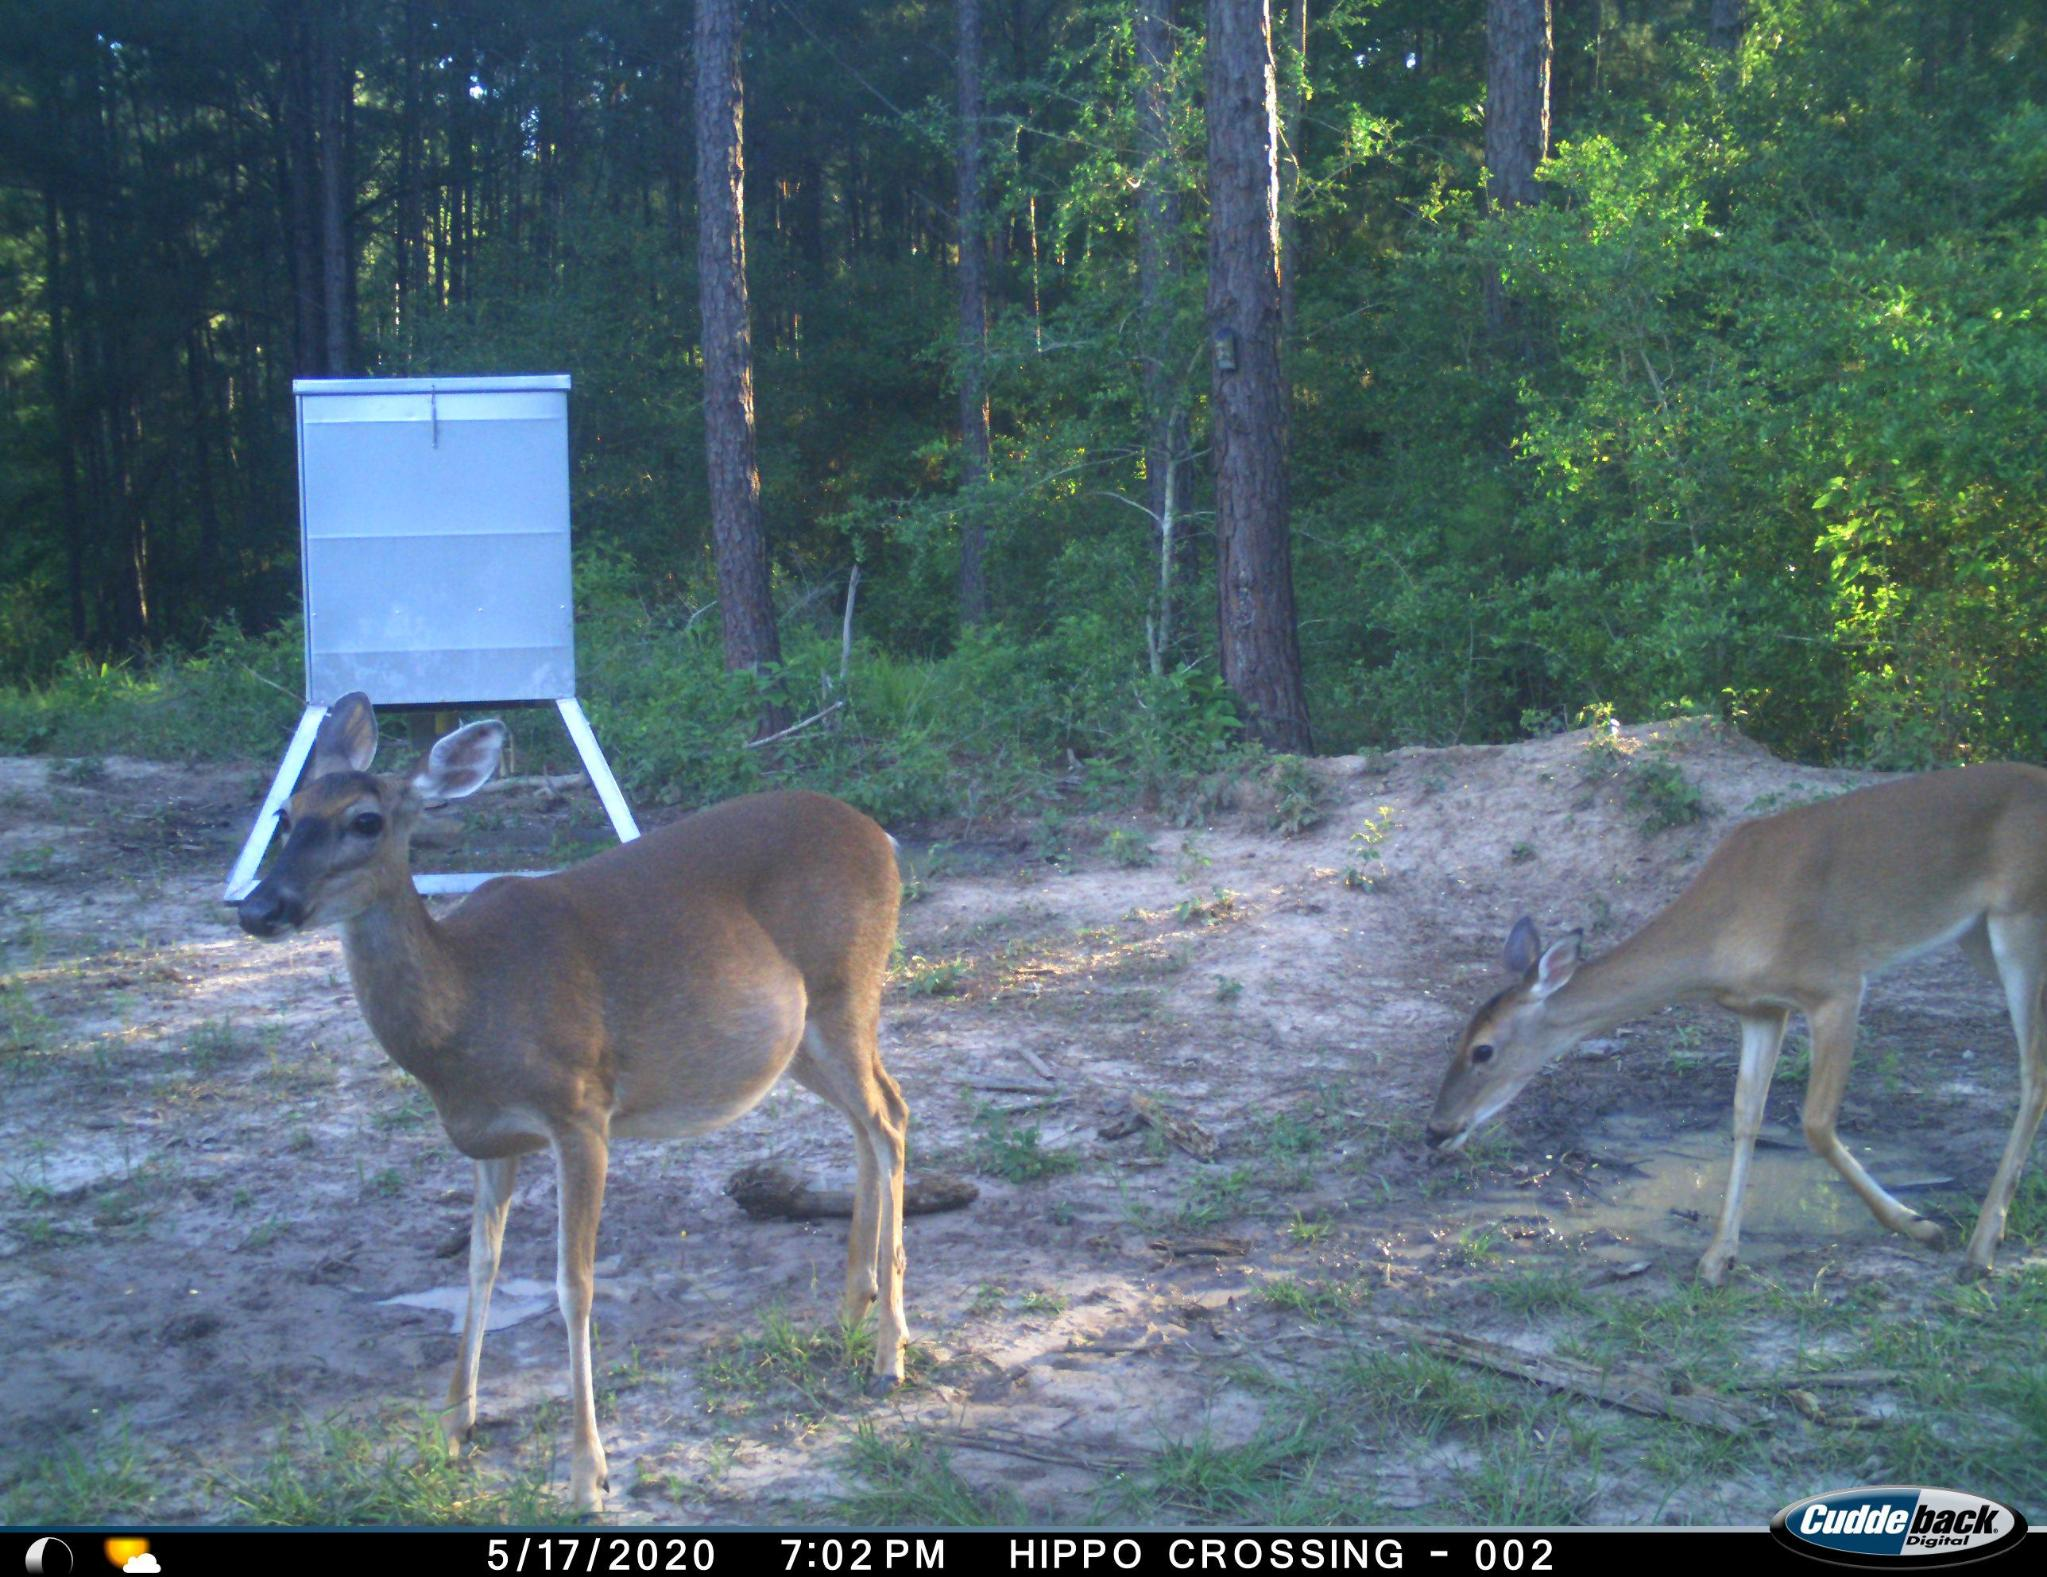Deer: (235, 686, 926, 1532), (1419, 737, 2047, 1315)
